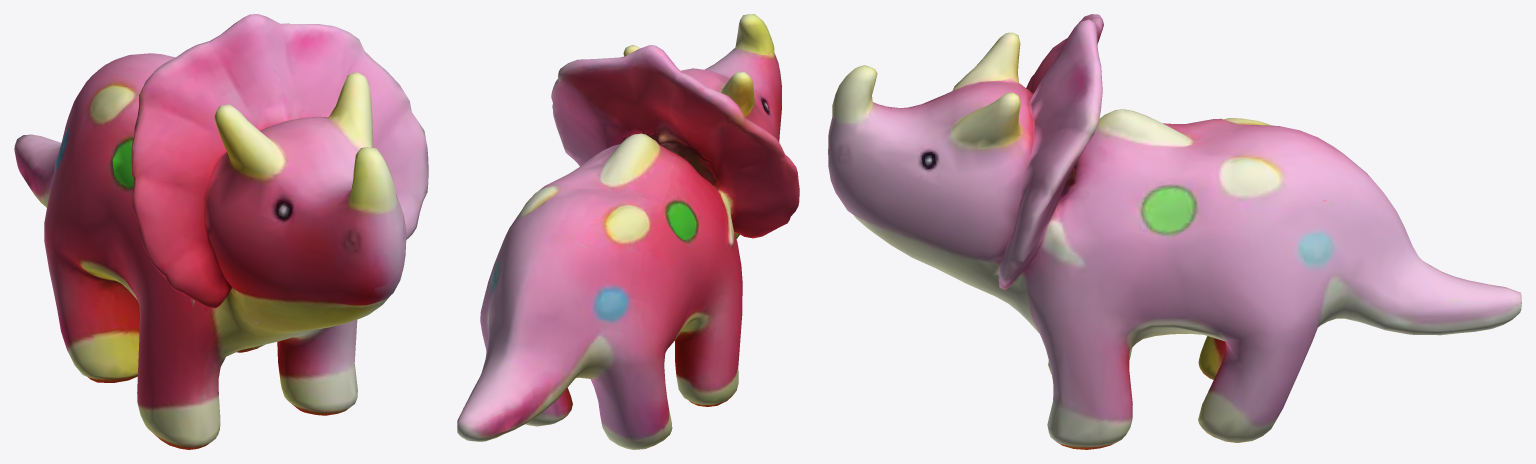
The model's file is trice.glb.
The picture shows the model from 3 angles, left to right: view 1: azimuth 30°, elevation 25°; view 2: azimuth 150°, elevation 25°; view 3: azimuth 270°, elevation 25°; orthographic projection. The views are drawn at different scales.
Parts seen in each view (by area): view 1: Body; view 2: Body; view 3: Body.
Part boxes in pixels (x1=…): Body: x1=14, y1=14, x2=428, y2=449; Body: x1=457, y1=14, x2=799, y2=449; Body: x1=828, y1=14, x2=1521, y2=449.
Bounding box in the file's own units: 0.2243 × 0.3001 × 0.4823.
1 material, 1 textured.
